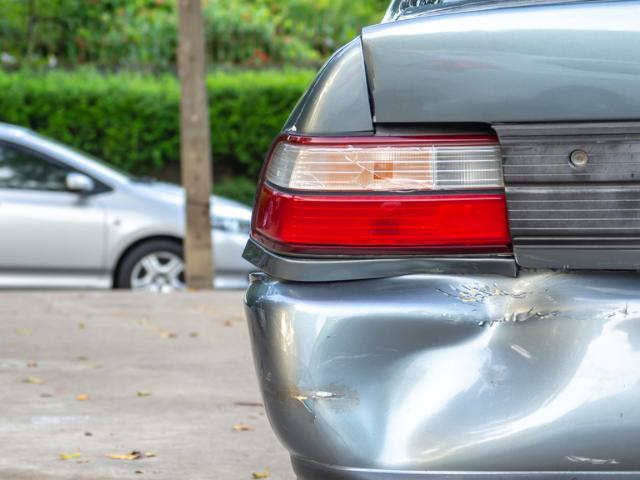Bumper: (202, 257, 640, 480)
Dickey: (325, 24, 640, 159)
